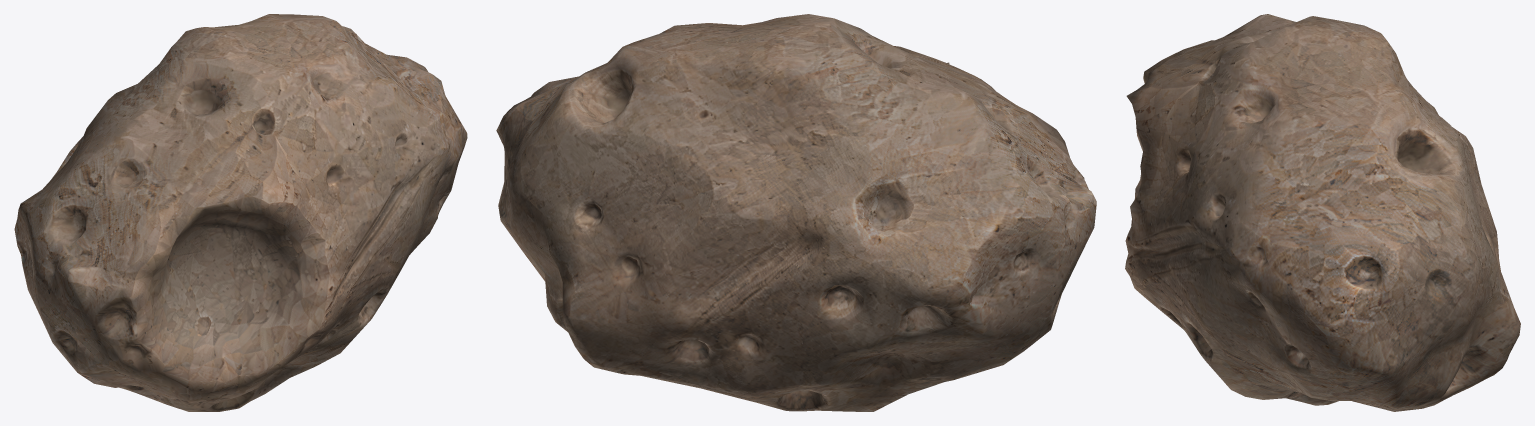
Rendered from asteroid_rock_3d_model.fbx.
3 views of the same model, side by side, from view 1: azimuth 30°, elevation 25°; view 2: azimuth 150°, elevation 25°; view 3: azimuth 270°, elevation 25° (orthographic). The views are drawn at different scales.
Visible parts, largest first — view 1: tripo_node_8a362a07-119a-4b22-8622-4838cbe0633f; view 2: tripo_node_8a362a07-119a-4b22-8622-4838cbe0633f; view 3: tripo_node_8a362a07-119a-4b22-8622-4838cbe0633f.
Part boxes in pixels (x1,y1,x2,y2): tripo_node_8a362a07-119a-4b22-8622-4838cbe0633f: (14,14,467,411); tripo_node_8a362a07-119a-4b22-8622-4838cbe0633f: (496,14,1096,411); tripo_node_8a362a07-119a-4b22-8622-4838cbe0633f: (1125,14,1520,411).
Size of the model in its own units: 0.9995 by 0.7026 by 0.6919.
1 material, 1 textured.
